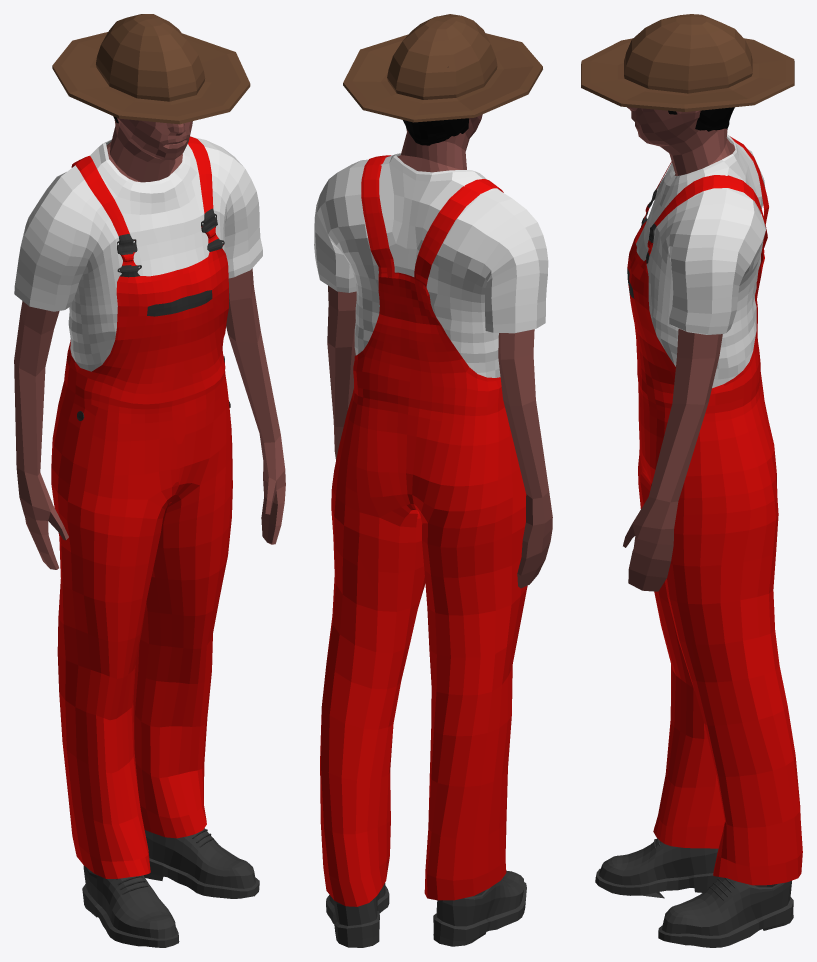
The model's file is Leon.fbx.
3 renders of one model, left to right at view 1: azimuth 30°, elevation 25°; view 2: azimuth 150°, elevation 25°; view 3: azimuth 270°, elevation 25°, orthographic. The views are drawn at different scales.
Visible parts, largest first — view 1: FarmerMan; view 2: FarmerMan; view 3: FarmerMan.
Part boxes in pixels (left/top/right/bottom): FarmerMan: left=14, top=14, right=285, bottom=947; FarmerMan: left=314, top=14, right=552, bottom=947; FarmerMan: left=581, top=14, right=802, bottom=947.
Size of the model in its own units: 50.7 by 184 by 42.01.
